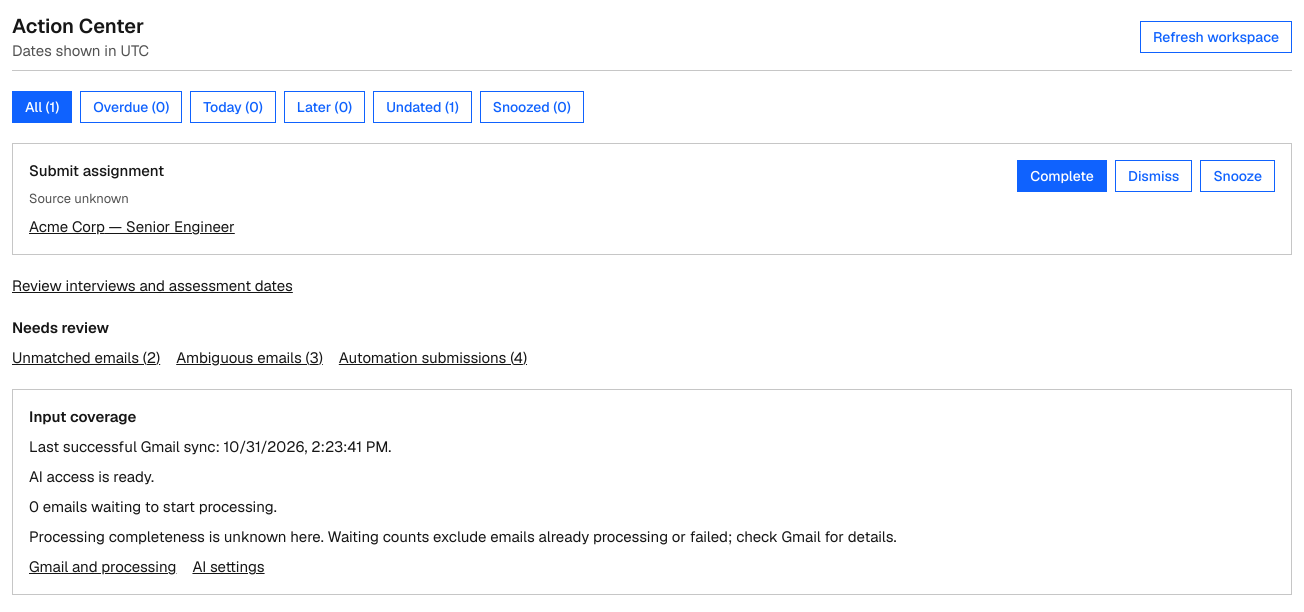
Test case: daily workspace › uses existing Complete mutation once and refreshes counts
Click the button "Complete".
click(1062, 176)  # box [1017,160,1107,192]
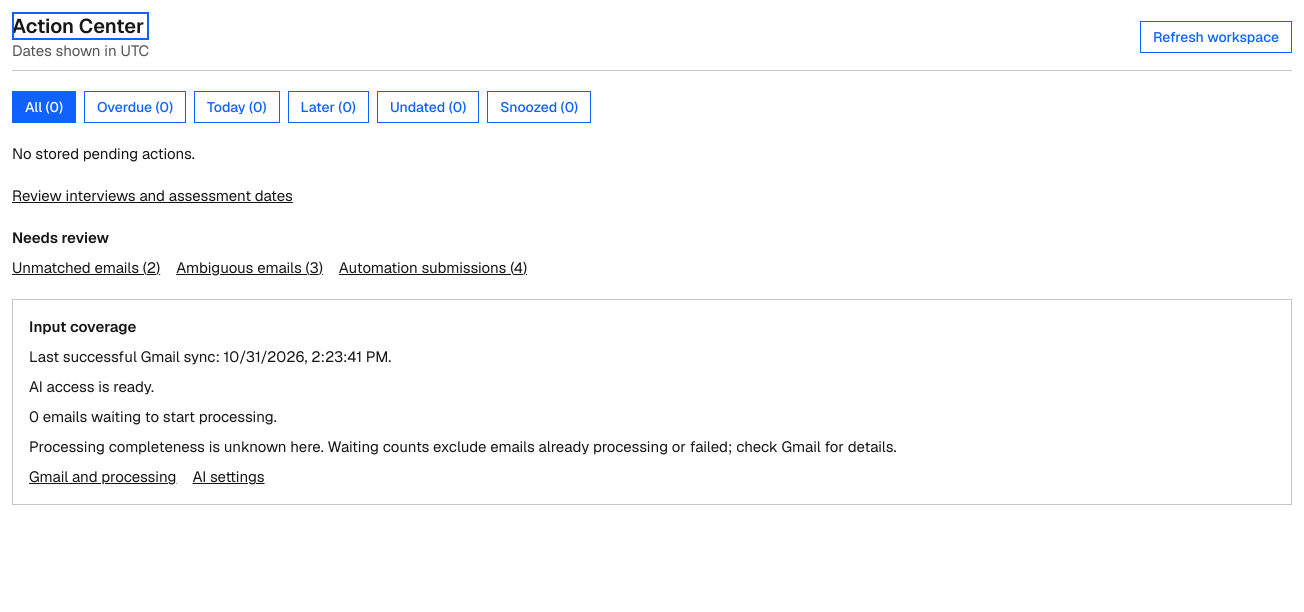
Check: the text "No stored pending actions." is shown, box [12,144,195,163]
